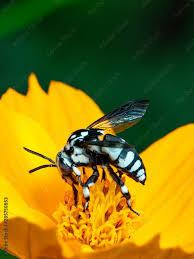Thyreus: (18, 92, 158, 225)
